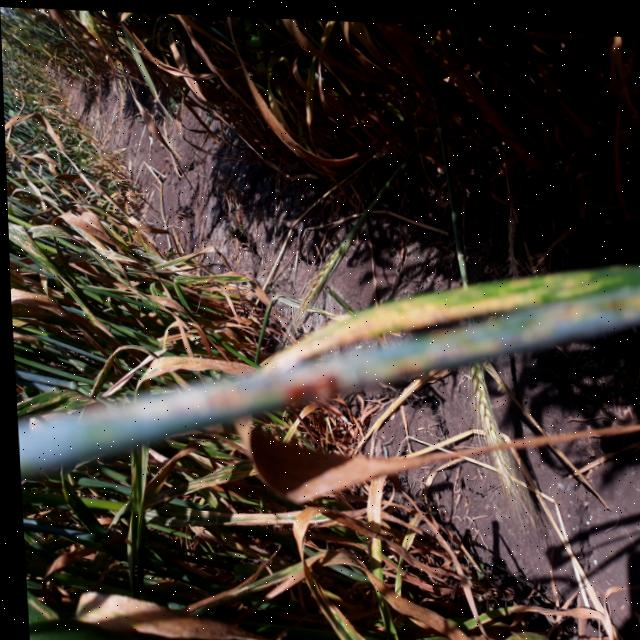black_stem_rust: (7, 225, 613, 498)
